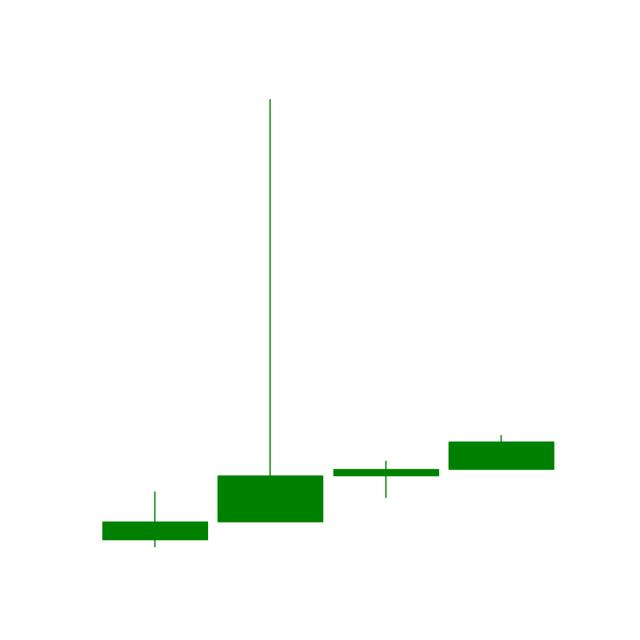Dragonfly Doji: (328, 459, 444, 498)
Gravenstone Doji: (100, 492, 208, 548)
Inverted Hammer: (215, 96, 324, 522)
